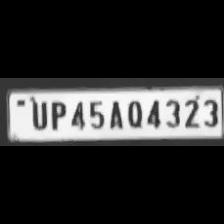2: (180, 96, 200, 128)
3: (200, 95, 218, 129), (162, 96, 180, 128)
4: (66, 98, 86, 130), (144, 97, 162, 129)
5: (85, 96, 105, 130)
A: (106, 98, 124, 130)
P: (46, 98, 68, 130)
Q: (124, 97, 144, 129)
U: (26, 98, 48, 130)
